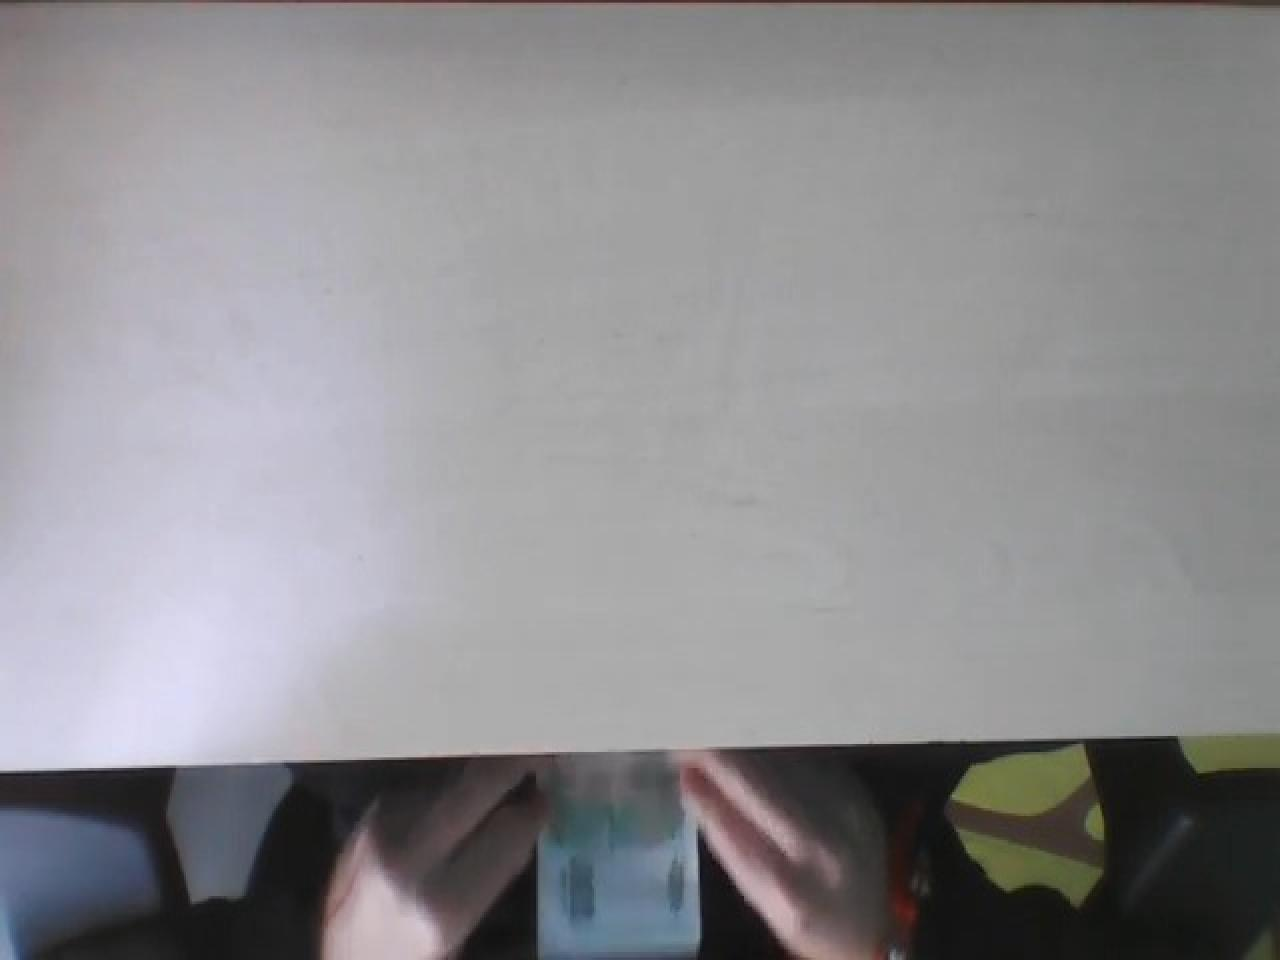100leva: (532, 755, 702, 960)
